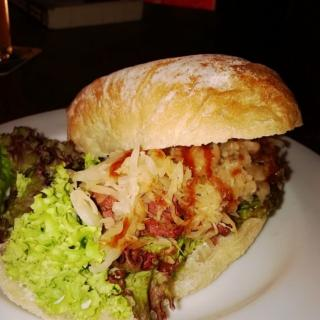Hamburger: (66, 54, 303, 306)
